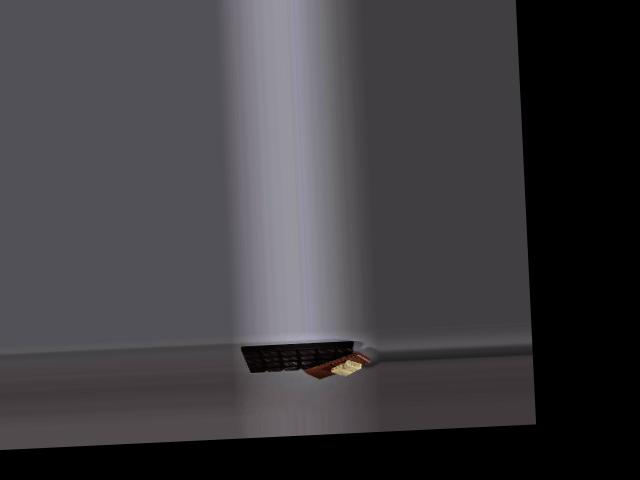chocolate: (240, 336, 362, 377)
